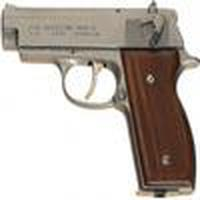gun: (1, 1, 199, 199)
